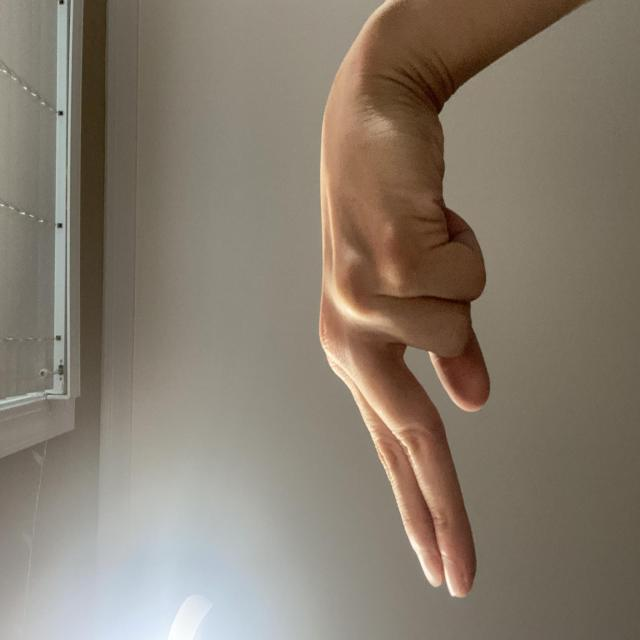H: (25, 411, 480, 640)
